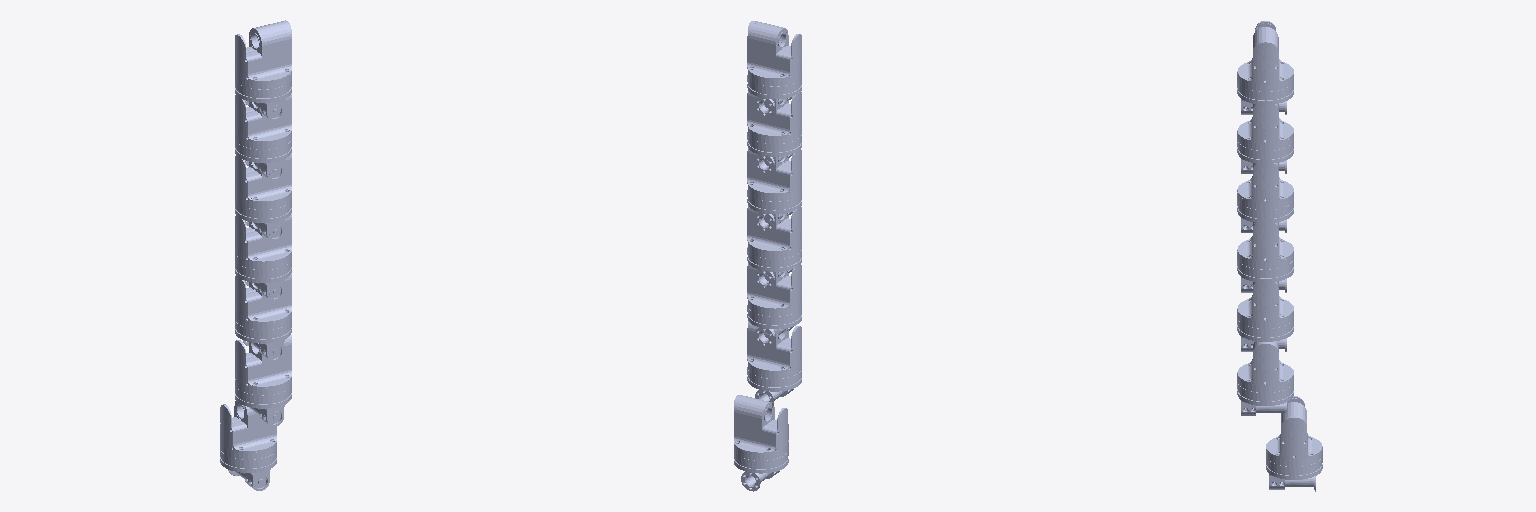
robot.urdf — quadnake_ver_leg:
<?xml version="1.0" encoding="utf-8"?>
<!-- This URDF was automatically created by SolidWorks to URDF Exporter! Originally created by [author] ([email redacted]) 
     Commit Version: 1.5.1-0-g916b5db  Build Version: 1.5.7152.31018
     For more information, please see http://wiki.ros.org/sw_urdf_exporter -->
<robot
  name="quadnake_ver_leg">
  <link name="base_footprint"/>

  <joint name="base_link_joint" type="fixed">
    <parent link="base_footprint"/>
    <child link="Link0"/>
    <origin xyz="0.0 0.0 0.0" rpy="0.0 0.0 0.0"/>
  </joint>

  <link
    name="Link0">
    <inertial>
      <origin
        xyz="-0.0057706 0.21609 0.054307"
        rpy="0 0 0" />
      <mass
        value="0.52162" />
      <inertia
        ixx="0.013885"
        ixy="-4.1562E-06"
        ixz="2.4437E-07"
        iyy="0.00012457"
        iyz="6.6864E-05"
        izz="0.01389" />
    </inertial>
    <visual>
      <origin
        xyz="0 0 0"
        rpy="0 0 0" />
      <geometry>
        <mesh
          filename="package://snake_description/meshes/base_link.STL" />
      </geometry>
      <material
        name="">
        <color
          rgba="0.79216 0.81961 0.93333 1" />
      </material>
    </visual>
    <collision>
      <origin
        xyz="0 0 0"
        rpy="0 0 0" />
      <geometry>
        <mesh
          filename="package://snake_description/meshes/base_link.STL" />
      </geometry>
    </collision>
  </link>
  <link
    name="Link1">
    <inertial>
      <origin
        xyz="0.027707 -0.2055 -0.00026616"
        rpy="0 0 0" />
      <mass
        value="0.52162" />
      <inertia
        ixx="0.01389"
        ixy="-6.6864E-05"
        ixz="2.4437E-07"
        iyy="0.00012457"
        iyz="4.1562E-06"
        izz="0.013885" />
    </inertial>
    <visual>
      <origin
        xyz="0 0 0"
        rpy="0 0 0" />
      <geometry>
        <mesh
          filename="package://snake_description/meshes/Link1.STL" />
      </geometry>
      <material
        name="">
        <color
          rgba="0.79216 0.81961 0.93333 1" />
      </material>
    </visual>
    <collision>
      <origin
        xyz="0 0 0"
        rpy="0 0 0" />
      <geometry>
        <mesh
          filename="package://snake_description/meshes/Link1.STL" />
      </geometry>
    </collision>
  </link>
  <joint
    name="Joint1"
    type="continuous">
    <origin
      xyz="-0.0055044 -0.0266 0.010585"
      rpy="-1.5708 0 -1.5708" />
    <parent
      link="Link0" />
    <child
      link="Link1" />
    <axis
      xyz="1 0 0" />
  </joint>
  <link
    name="Link2">
    <inertial>
      <origin
        xyz="-0.0015429 -0.122 -0.00026616"
        rpy="0 0 0" />
      <mass
        value="0.52162" />
      <inertia
        ixx="0.01389"
        ixy="-6.6864E-05"
        ixz="2.4437E-07"
        iyy="0.00012457"
        iyz="4.1562E-06"
        izz="0.013885" />
    </inertial>
    <visual>
      <origin
        xyz="0 0 0"
        rpy="0 0 0" />
      <geometry>
        <mesh
          filename="package://snake_description/meshes/Link2.STL" />
      </geometry>
      <material
        name="">
        <color
          rgba="0.79216 0.81961 0.93333 1" />
      </material>
    </visual>
    <collision>
      <origin
        xyz="0 0 0"
        rpy="0 0 0" />
      <geometry>
        <mesh
          filename="package://snake_description/meshes/Link2.STL" />
      </geometry>
    </collision>
  </link>
  <joint
    name="Joint2"
    type="continuous">
    <origin
      xyz="0.02925 -0.0835 0"
      rpy="0 0 0" />
    <parent
      link="Link1" />
    <child
      link="Link2" />
    <axis
      xyz="0 0 1" />
  </joint>
  <link
    name="Link3">
    <inertial>
      <origin
        xyz="-0.0015429 -0.0495 -0.00026616"
        rpy="0 0 0" />
      <mass
        value="0.52162" />
      <inertia
        ixx="0.01389"
        ixy="-6.6864E-05"
        ixz="2.4437E-07"
        iyy="0.00012457"
        iyz="4.1562E-06"
        izz="0.013885" />
    </inertial>
    <visual>
      <origin
        xyz="0 0 0"
        rpy="0 0 0" />
      <geometry>
        <mesh
          filename="package://snake_description/meshes/Link3.STL" />
      </geometry>
      <material
        name="">
        <color
          rgba="0.79216 0.81961 0.93333 1" />
      </material>
    </visual>
    <collision>
      <origin
        xyz="0 0 0"
        rpy="0 0 0" />
      <geometry>
        <mesh
          filename="package://snake_description/meshes/Link3.STL" />
      </geometry>
    </collision>
  </link>
  <joint
    name="Joint3"
    type="continuous">
    <origin
      xyz="0 -0.0725 0"
      rpy="0 0 0" />
    <parent
      link="Link2" />
    <child
      link="Link3" />
    <axis
      xyz="0 0 1" />
  </joint>
  <link
    name="Link4">
    <inertial>
      <origin
        xyz="-0.0015429 0.0175 -0.00026616"
        rpy="0 0 0" />
      <mass
        value="0.52162" />
      <inertia
        ixx="0.01389"
        ixy="-6.6864E-05"
        ixz="2.4437E-07"
        iyy="0.00012457"
        iyz="4.1562E-06"
        izz="0.013885" />
    </inertial>
    <visual>
      <origin
        xyz="0 0 0"
        rpy="0 0 0" />
      <geometry>
        <mesh
          filename="package://snake_description/meshes/Link4.STL" />
      </geometry>
      <material
        name="">
        <color
          rgba="0.79216 0.81961 0.93333 1" />
      </material>
    </visual>
    <collision>
      <origin
        xyz="0 0 0"
        rpy="0 0 0" />
      <geometry>
        <mesh
          filename="package://snake_description/meshes/Link4.STL" />
      </geometry>
    </collision>
  </link>
  <joint
    name="Joint4"
    type="continuous">
    <origin
      xyz="0 -0.067 0"
      rpy="0 0 0" />
    <parent
      link="Link3" />
    <child
      link="Link4" />
    <axis
      xyz="0 0 1" />
  </joint>
  <link
    name="Link5">
    <inertial>
      <origin
        xyz="-0.0015429 0.0845 -0.00026616"
        rpy="0 0 0" />
      <mass
        value="0.52162" />
      <inertia
        ixx="0.01389"
        ixy="-6.6864E-05"
        ixz="2.4437E-07"
        iyy="0.00012457"
        iyz="4.1562E-06"
        izz="0.013885" />
    </inertial>
    <visual>
      <origin
        xyz="0 0 0"
        rpy="0 0 0" />
      <geometry>
        <mesh
          filename="package://snake_description/meshes/Link5.STL" />
      </geometry>
      <material
        name="">
        <color
          rgba="0.79216 0.81961 0.93333 1" />
      </material>
    </visual>
    <collision>
      <origin
        xyz="0 0 0"
        rpy="0 0 0" />
      <geometry>
        <mesh
          filename="package://snake_description/meshes/Link5.STL" />
      </geometry>
    </collision>
  </link>
  <joint
    name="Joint5"
    type="continuous">
    <origin
      xyz="0 -0.067 0"
      rpy="0 0 0" />
    <parent
      link="Link4" />
    <child
      link="Link5" />
    <axis
      xyz="0 0 1" />
  </joint>
  <link
    name="Link6">
    <inertial>
      <origin
        xyz="-0.0015429 0.1515 -0.00026616"
        rpy="0 0 0" />
      <mass
        value="0.52162" />
      <inertia
        ixx="0.01389"
        ixy="-6.6864E-05"
        ixz="2.4437E-07"
        iyy="0.00012457"
        iyz="4.1562E-06"
        izz="0.013885" />
    </inertial>
    <visual>
      <origin
        xyz="0 0 0"
        rpy="0 0 0" />
      <geometry>
        <mesh
          filename="package://snake_description/meshes/Link6.STL" />
      </geometry>
      <material
        name="">
        <color
          rgba="0.79216 0.81961 0.93333 1" />
      </material>
    </visual>
    <collision>
      <origin
        xyz="0 0 0"
        rpy="0 0 0" />
      <geometry>
        <mesh
          filename="package://snake_description/meshes/Link6.STL" />
      </geometry>
    </collision>
  </link>
  <joint
    name="Joint6"
    type="continuous">
    <origin
      xyz="0 -0.067 0"
      rpy="0 0 0" />
    <parent
      link="Link5" />
    <child
      link="Link6" />
    <axis
      xyz="0 0 1" />
  </joint>
  <link
    name="Link7">
    <inertial>
      <origin
        xyz="-0.2185 -0.0015429 -0.00026616"
        rpy="0 0 0" />
      <mass
        value="0.52162" />
      <inertia
        ixx="0.00012457"
        ixy="6.6864E-05"
        ixz="-4.1562E-06"
        iyy="0.01389"
        iyz="2.4437E-07"
        izz="0.013885" />
    </inertial>
    <visual>
      <origin
        xyz="0 0 0"
        rpy="0 0 0" />
      <geometry>
        <mesh
          filename="package://snake_description/meshes/Link7.STL" />
      </geometry>
      <material
        name="">
        <color
          rgba="0.79216 0.81961 0.93333 1" />
      </material>
    </visual>
    <collision>
      <origin
        xyz="0 0 0"
        rpy="0 0 0" />
      <geometry>
        <mesh
          filename="package://snake_description/meshes/Link7.STL" />
      </geometry>
    </collision>
  </link>
  <joint
    name="Joint7"
    type="continuous">
    <origin
      xyz="0 -0.067 0"
      rpy="0 0 0" />
    <parent
      link="Link6" />
    <child
      link="Link7" />
    <axis
      xyz="0 0 1" />
  </joint>
</robot>

--- Render facts (derived) ---
Views: 3 orthographic renders of the robot side by side, from view 1: azimuth 30°, elevation 25°; view 2: azimuth 150°, elevation 25°; view 3: azimuth 270°, elevation 25°.
Robot: quadnake_ver_leg — 9 links, 8 joints (7 continuous, 1 fixed); root link base_footprint; default pose: every joint at zero.
Links seen in each view (by area): view 1: Link7, Link1, Link2, Link3, Link5, Link6, Link4; view 2: Link1, Link7, Link2, Link4, Link3, Link6, Link5; view 3: Link1, Link7, Link2, Link3, Link4, Link6, Link5.
Link boxes in pixels (bbox=[...]): Link7: bbox=[235, 20, 291, 120]; Link1: bbox=[220, 401, 276, 490]; Link2: bbox=[235, 335, 291, 426]; Link3: bbox=[235, 273, 291, 361]; Link5: bbox=[235, 153, 291, 241]; Link6: bbox=[235, 93, 291, 181]; Link4: bbox=[235, 213, 291, 301]; Link1: bbox=[734, 395, 788, 491]; Link7: bbox=[747, 21, 801, 116]; Link2: bbox=[747, 321, 801, 406]; Link4: bbox=[747, 206, 801, 289]; Link3: bbox=[747, 263, 801, 346]; Link6: bbox=[747, 91, 801, 174]; Link5: bbox=[747, 148, 801, 231]; Link1: bbox=[1266, 396, 1322, 491]; Link7: bbox=[1237, 21, 1293, 114]; Link2: bbox=[1237, 341, 1293, 415]; Link3: bbox=[1237, 280, 1293, 351]; Link4: bbox=[1237, 220, 1293, 292]; Link6: bbox=[1237, 102, 1293, 173]; Link5: bbox=[1237, 161, 1293, 232].
Size in the robot's own frame: 0.058 by 0.0873 by 0.5199 metres.
7 mesh visuals loaded from 8 distinct referenced files (7 binary STL); not drawn: 1 (reference not matched to a file when rendering).